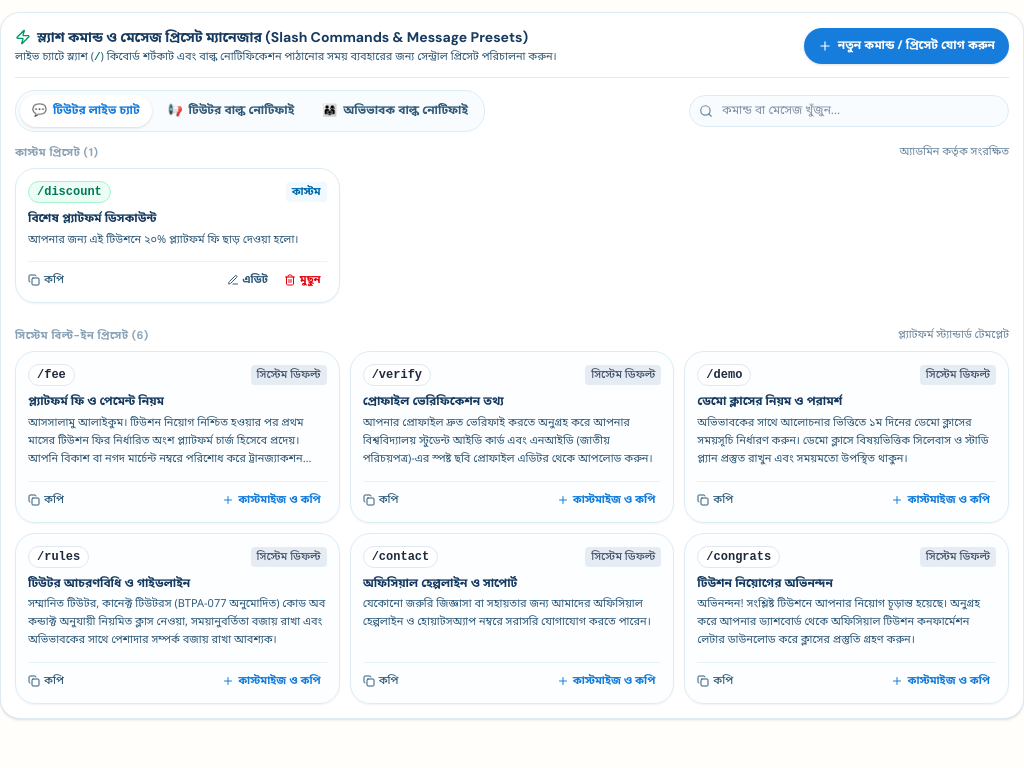
it: AdminSlashPresetsManager › filters presets using search input
This screenshot has width=1024, height=768.
Type "discount" into the search field with placeholder "কমান্ড বা মেসেজ খুঁজুন…". click: (849, 111)
box: 689,95 -> 1009,127
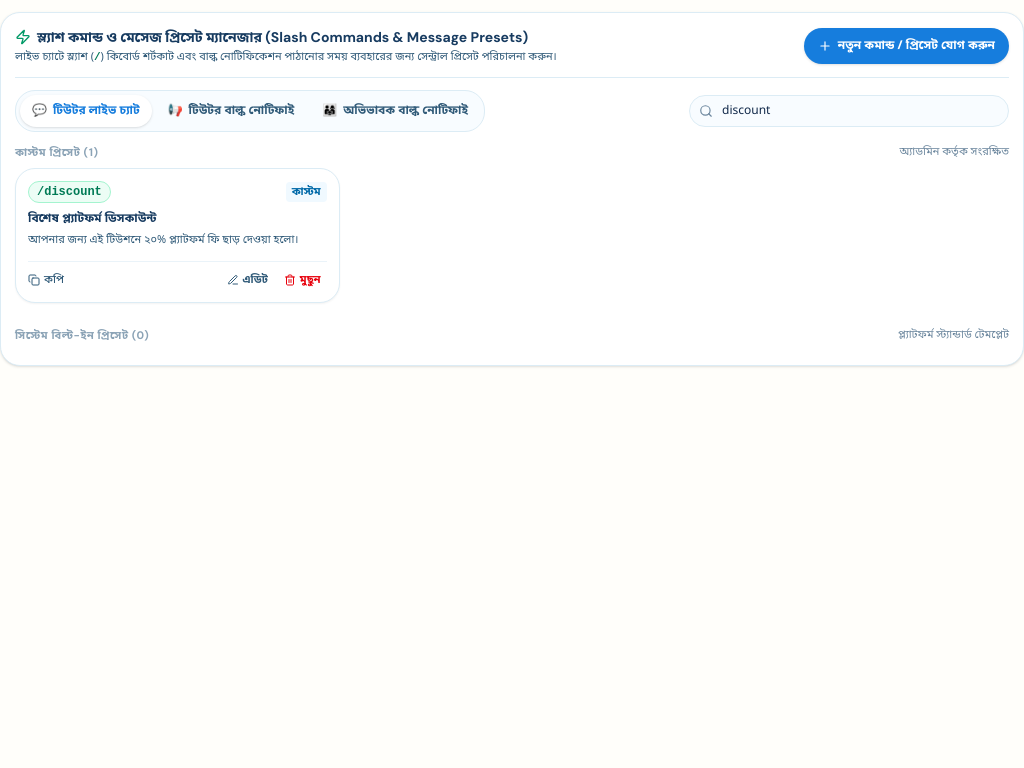
Expected: the heading "বিশেষ প্ল্যাটফর্ম ডিসকাউন্ট" is shown, 28,211 -> 157,227
Result: the heading "প্ল্যাটফর্ম ফি ও পেমেন্ট নিয়ম" is gone
